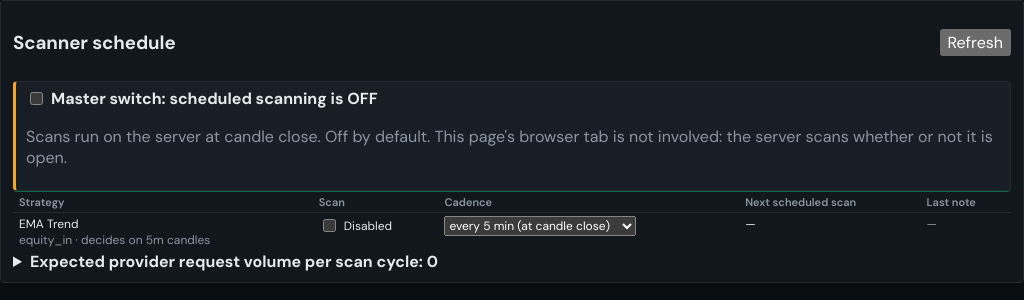
Test case: ScannerSchedulePanel › shows the master switch OFF by default, saves changes through PUT, and states the request volume
Expected: the text "Master switch: scheduled scanning is OFF" is shown, [51,88,378,109]
Expected: the text "Expected provider request volume per scan cycle: 0" is shown, [30,251,438,272]
Click the checkbox named "Schedule EMA Trend": (329, 226) [323,219,336,232]
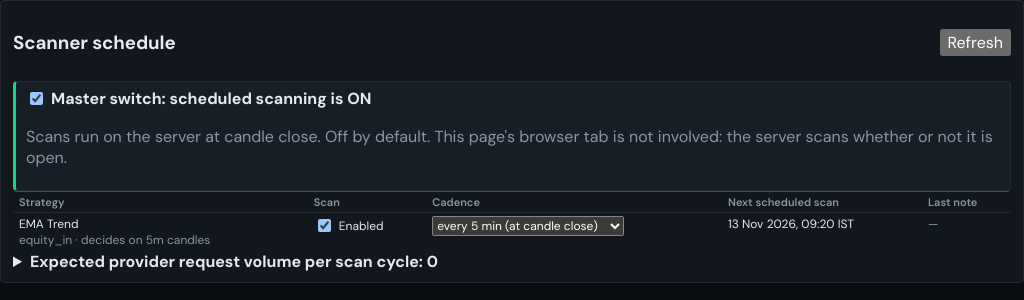
Expected: the text "Master switch: scheduled scanning is ON" is shown, [51,88,371,109]
Expected: the text "13 Nov 2026, 09:20 IST" is shown, [722,213,922,251]
